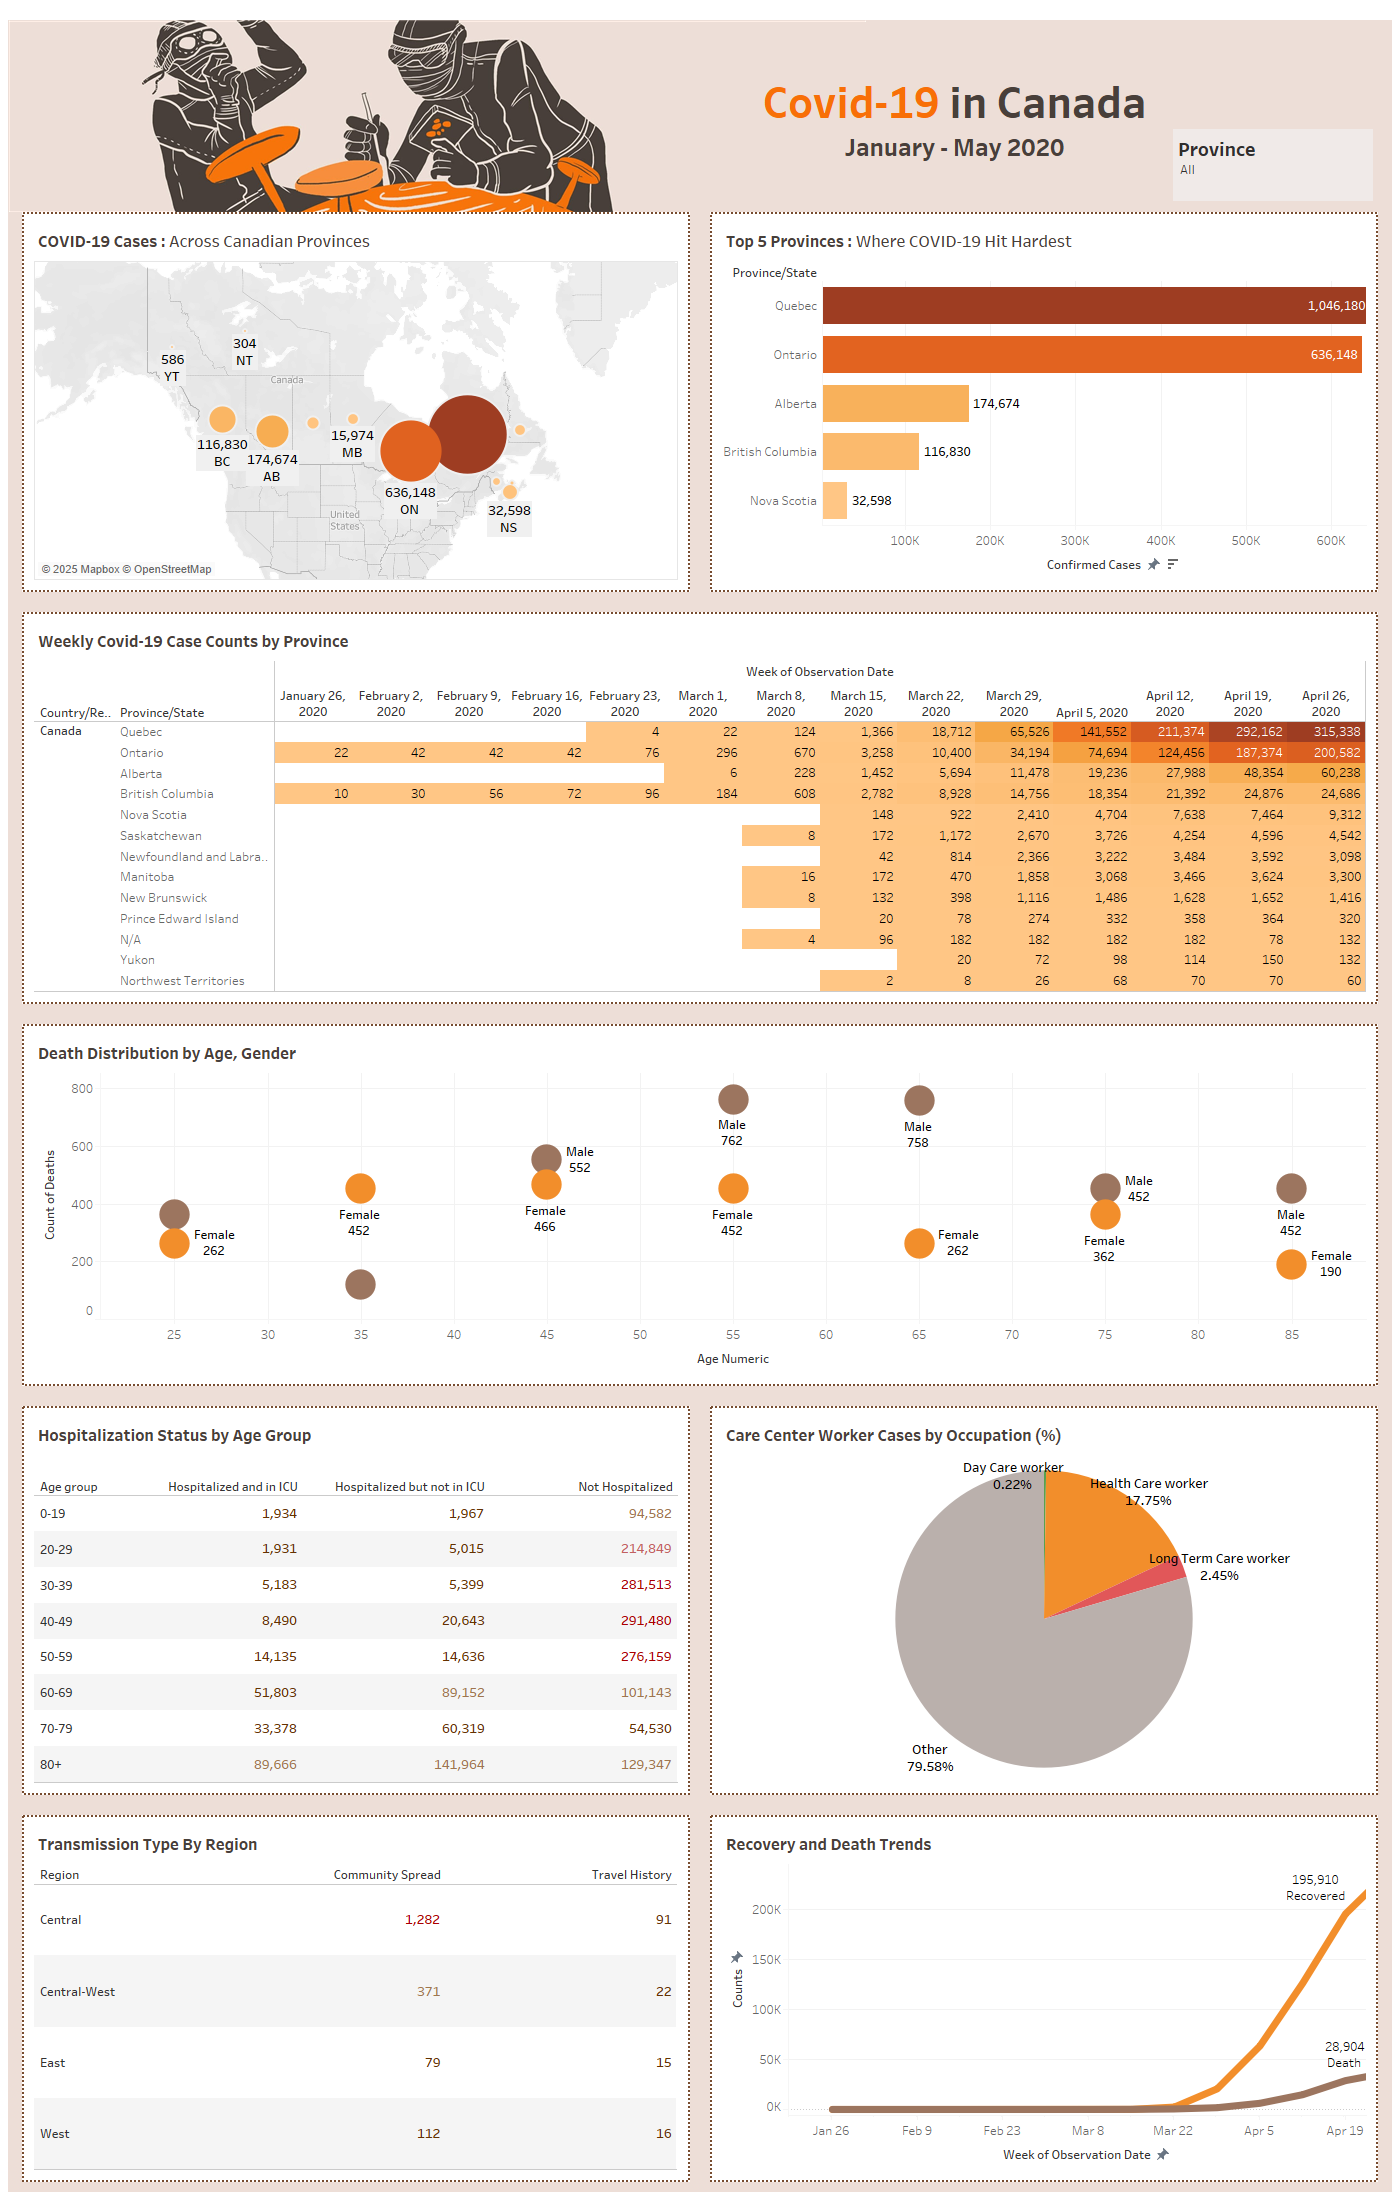

Layout of this report page (visuals, bound fields, positions):
{"tool":"tableau","page":{"name":"Dashboard","canvas":[1400,2200],"ordinal":0},"visuals":[{"type":"image","param":"Image/cover2.jpg","box":[8,20,1384,192]},{"type":"text","box":[619,22,671,190]},{"type":"filter","title":"Cases Over Time By Province","param":"[federated.09fticp18uedg318cwt9s1chur16].[none:Province/State:nk]","box":[1163,119,220,92]},{"type":"worksheet","title":"Case Map","mark":"Automatic","box":[8,212,692,390]},{"type":"worksheet","title":"Where COVID-19 Hit Hardest: Top 5 Canadian Provinces","mark":"Automatic","rows":["Province/State"],"cols":["Confirmed"],"box":[700,212,692,390]},{"type":"worksheet","title":"Cases Over Time By Province","mark":"Square","rows":["Country/Region","Province/State"],"cols":["ObservationDate"],"box":[8,602,1384,412]},{"type":"worksheet","title":"Death Distribution by Age, Gender","mark":"Circle","rows":["Deaths"],"cols":["Calculation_906630966624219144"],"box":[8,1014,1384,382]},{"type":"worksheet","title":"Hospitalization Status by Age Group","mark":"Automatic","rows":["Age_group"],"cols":["Hospital_status"],"box":[8,1396,692,409.4]},{"type":"worksheet","title":"Care Center Worker Cases by Occupation (%)","mark":"Pie","box":[700,1396,692,409.4]},{"type":"worksheet","title":"Transmission Type By Region","mark":"Automatic","rows":["Region"],"cols":["Transmission"],"box":[8,1805.4,692,386.6]},{"type":"worksheet","title":"Trend","mark":"Automatic","cols":["ObservationDate"],"box":[700,1805.4,692,386.6]}]}

Visuals, with their boxes in screenshot pixels (x1, y1, x2, y2), scaled from the page's 1400x2200 canvas onto the 1400x2200 screenshot:
image: box(8, 20, 1392, 212)
text: box(619, 22, 1290, 212)
"Cases Over Time By Province" filter: box(1163, 119, 1383, 211)
"Case Map" worksheet: box(8, 212, 700, 602)
"Where COVID-19 Hit Hardest: Top 5 Canadian Provinces" worksheet: box(700, 212, 1392, 602)
"Cases Over Time By Province" worksheet (Square marks): box(8, 602, 1392, 1014)
"Death Distribution by Age, Gender" worksheet (Circle marks): box(8, 1014, 1392, 1396)
"Hospitalization Status by Age Group" worksheet: box(8, 1396, 700, 1805)
"Care Center Worker Cases by Occupation (%)" worksheet (Pie marks): box(700, 1396, 1392, 1805)
"Transmission Type By Region" worksheet: box(8, 1805, 700, 2192)
"Trend" worksheet: box(700, 1805, 1392, 2192)
